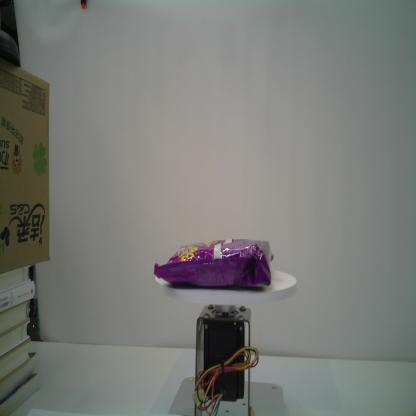Instant Noodles: (153, 237, 276, 291)
